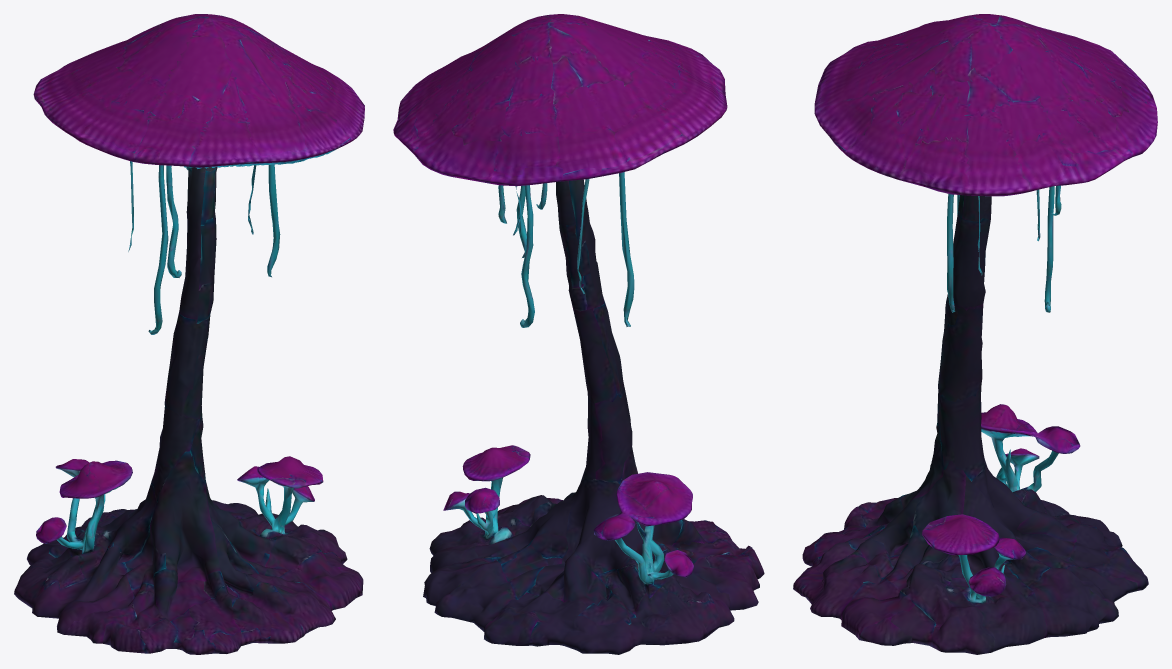
File: plant-cap.glb
3 views of the same model, side by side, from view 1: azimuth 30°, elevation 25°; view 2: azimuth 150°, elevation 25°; view 3: azimuth 270°, elevation 25° (orthographic). The views are drawn at different scales.
Size of the model in its own units: 1.13 by 1.9 by 1.1.
1 material, 1 textured.
